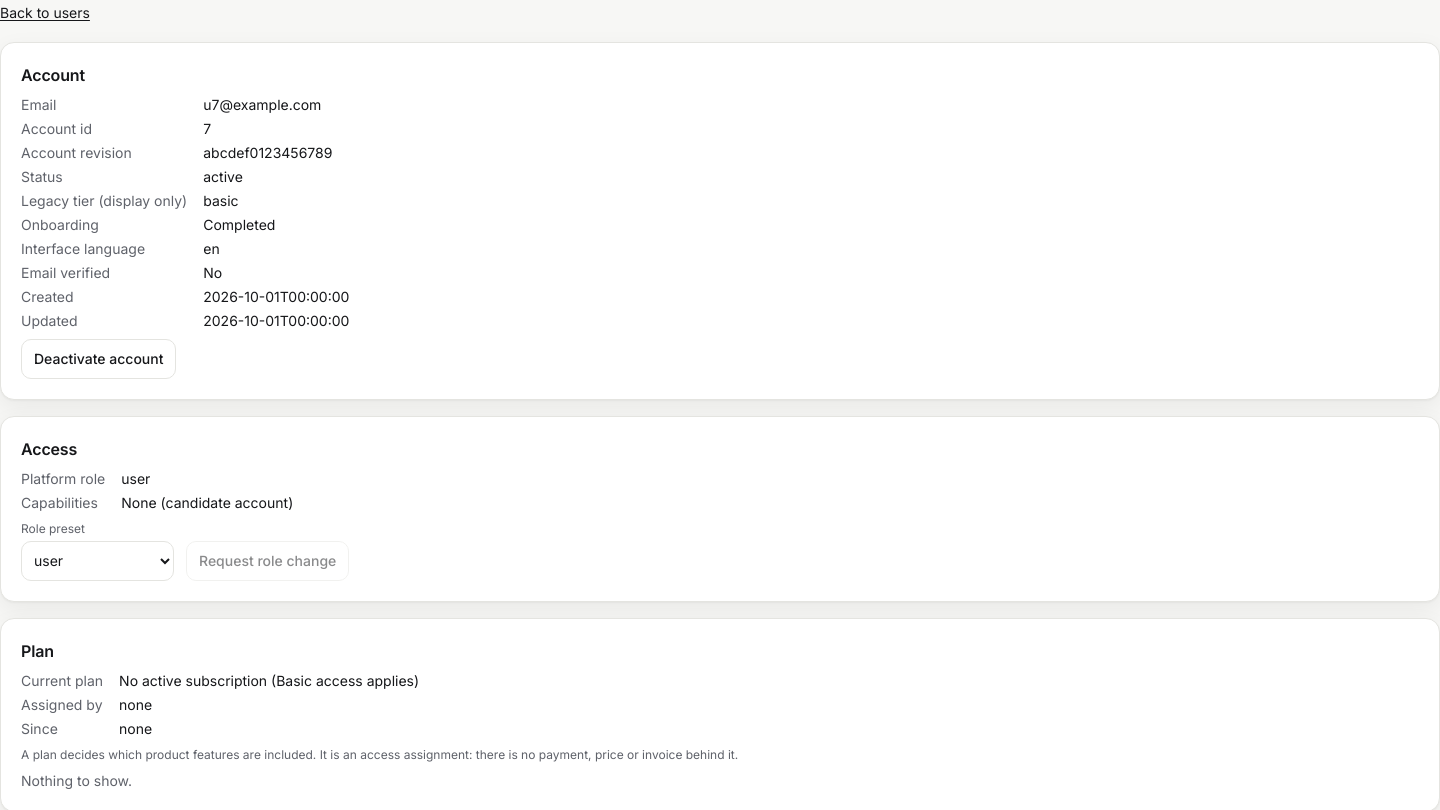
Test case: User detail › a failed write shows the error inside the dialog and is not retried
This screenshot has width=1440, height=810.
Click the button "Deactivate account" at (99, 359), box x1=21 y1=339 x2=176 y2=379
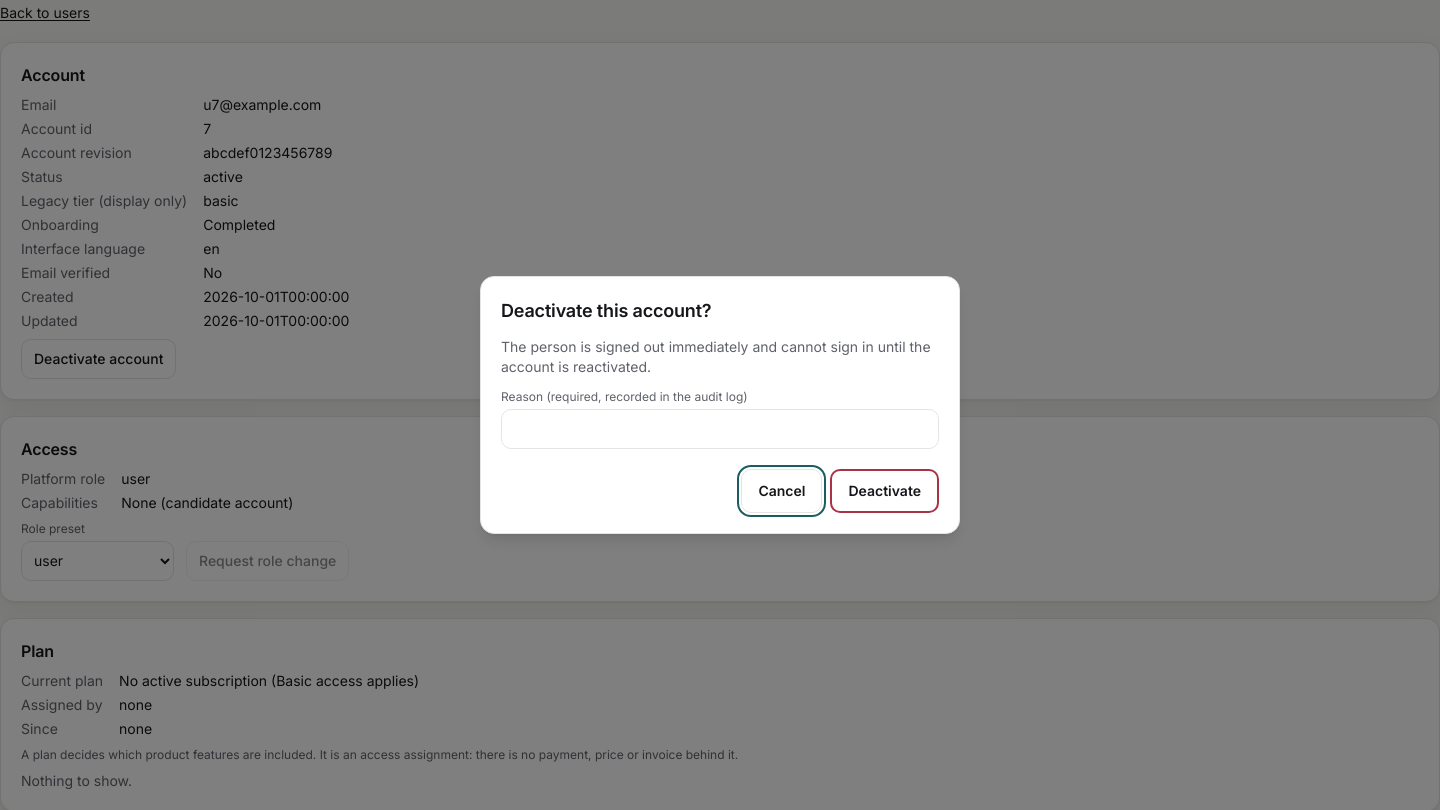
Type "abuse report" into the field labelled "Reason (required, recorded in the audit log)" at (720, 429), box x1=501 y1=409 x2=939 y2=449
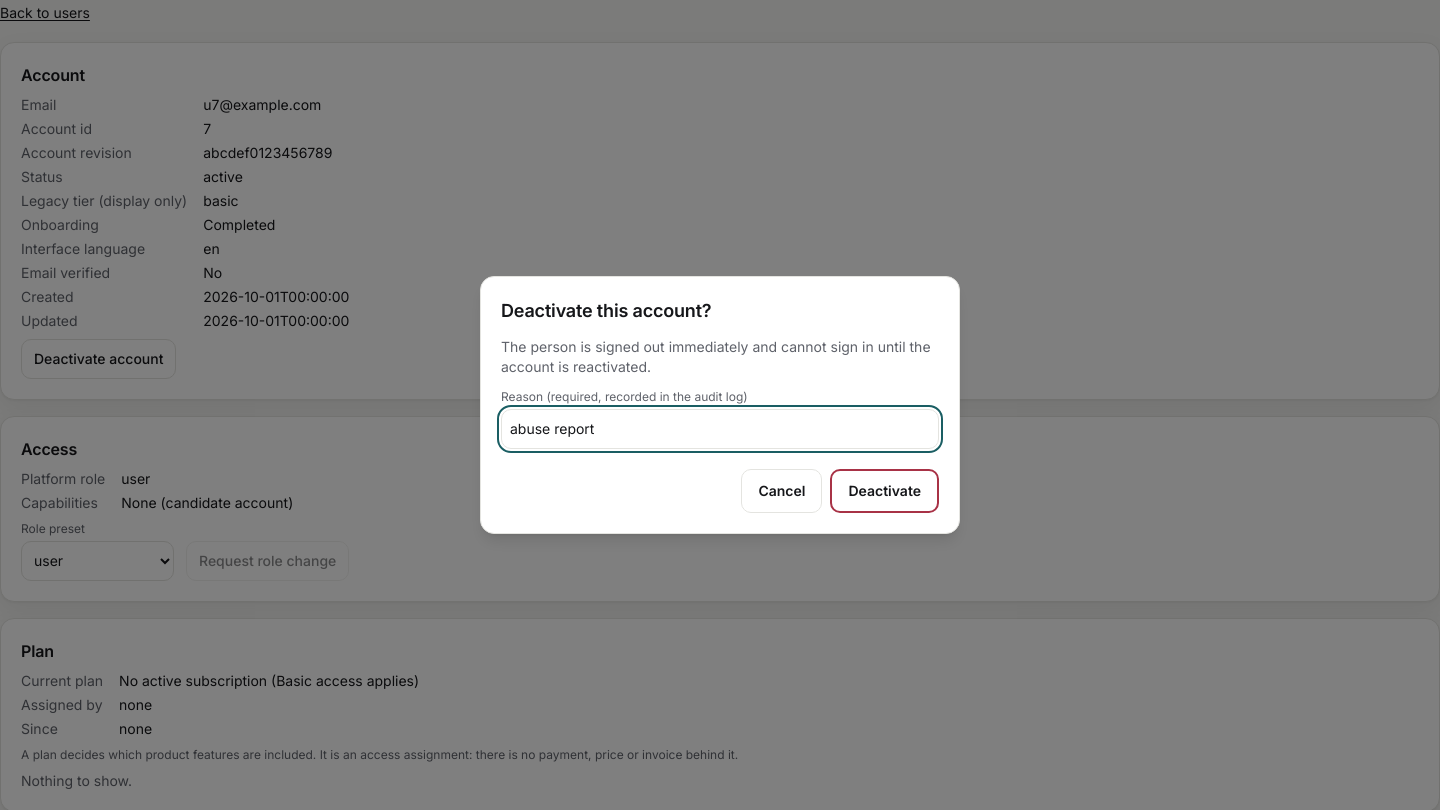
Click the button "Deactivate" at (885, 491), box x1=830 y1=469 x2=939 y2=513
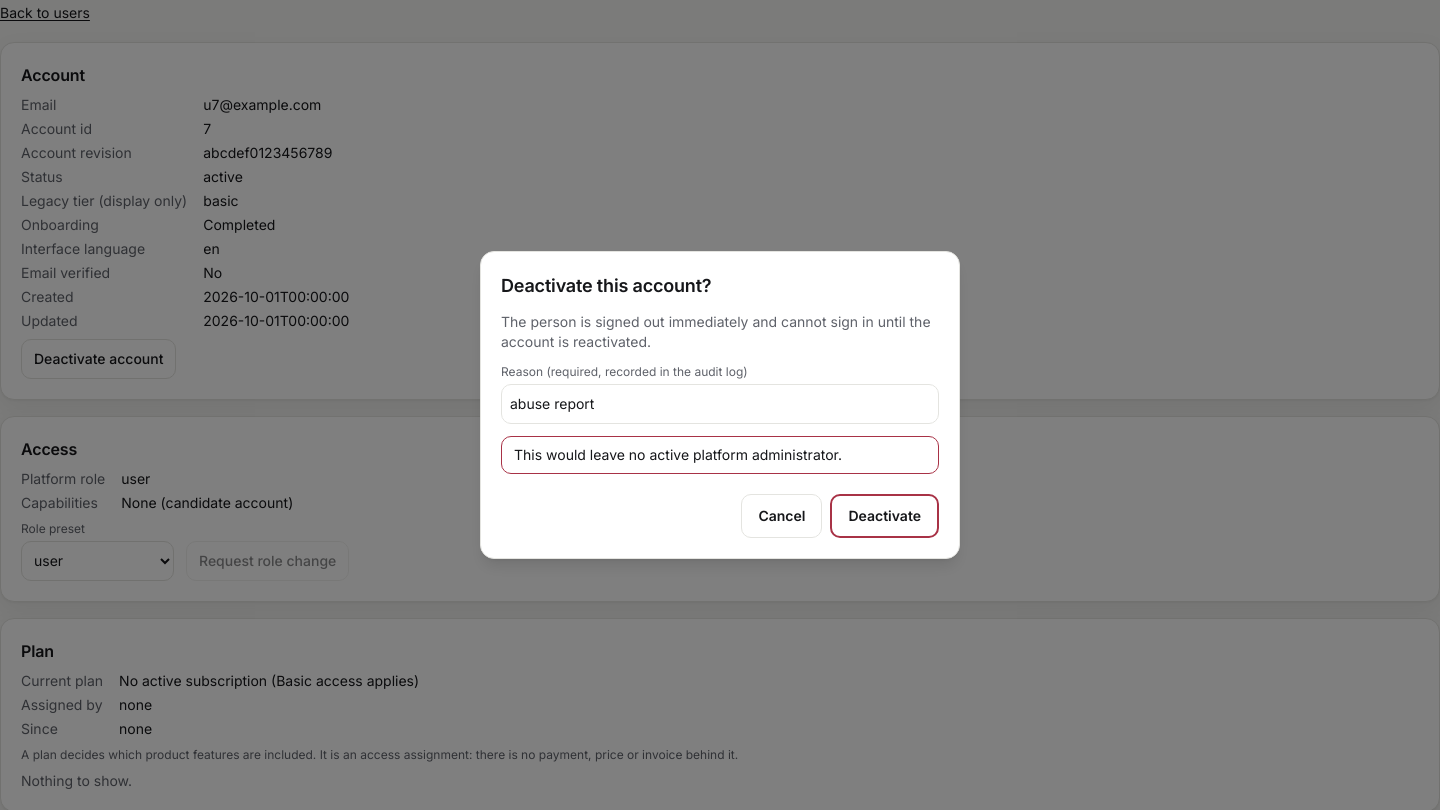
Expected: the message shows "no active platform administrator", x1=514 y1=446 x2=842 y2=463
